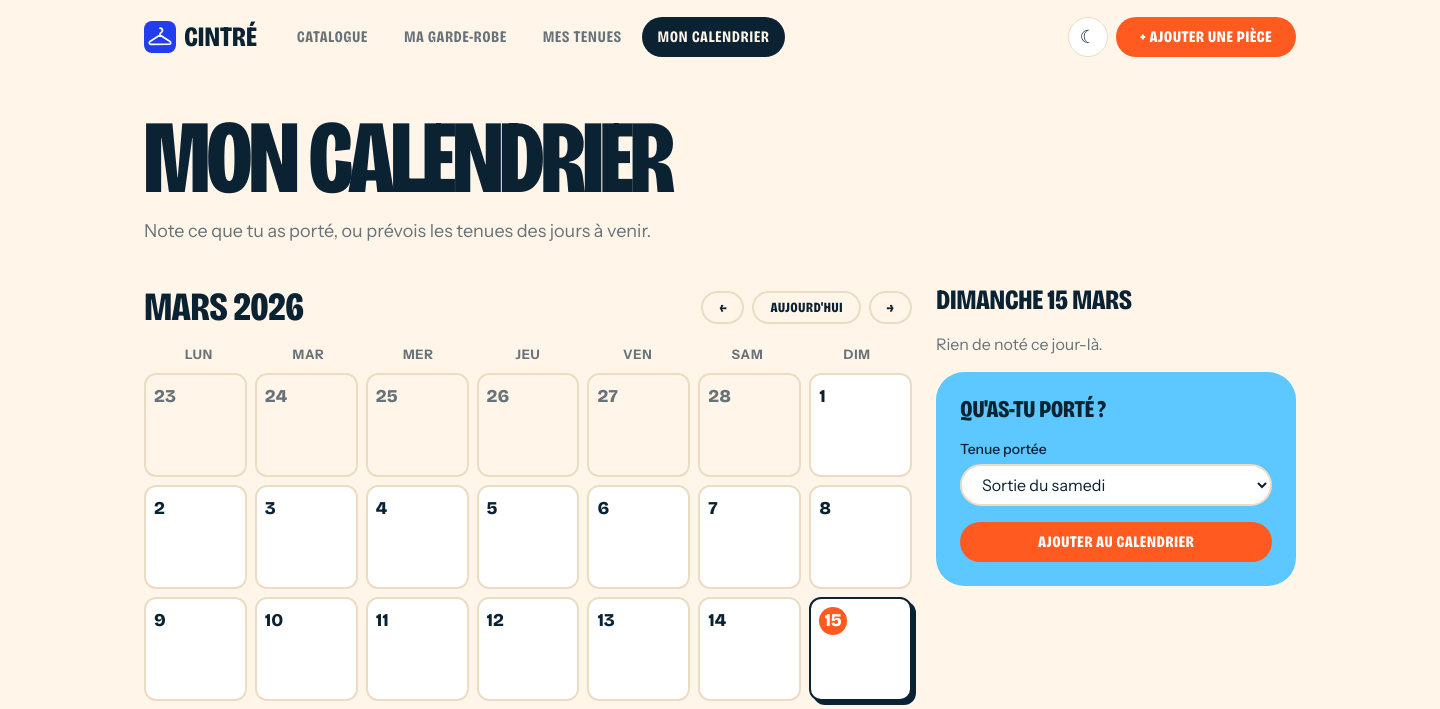
Test: Calendrier : navigation › revient au jour d'aujourd'hui
Click the button named "Mois suivant" at (890, 307), box [869, 291, 912, 324]
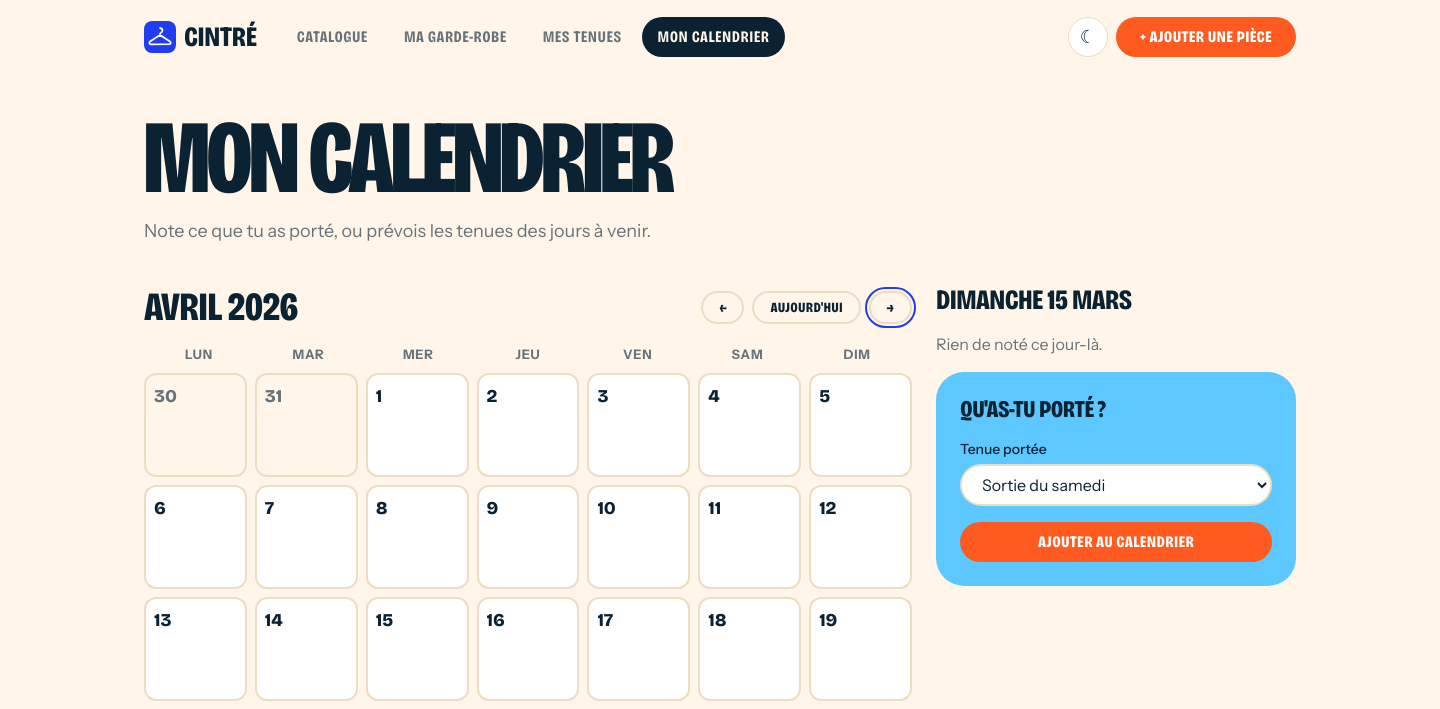
Click the button "Aujourd'hui" at (807, 307), box [752, 291, 861, 324]
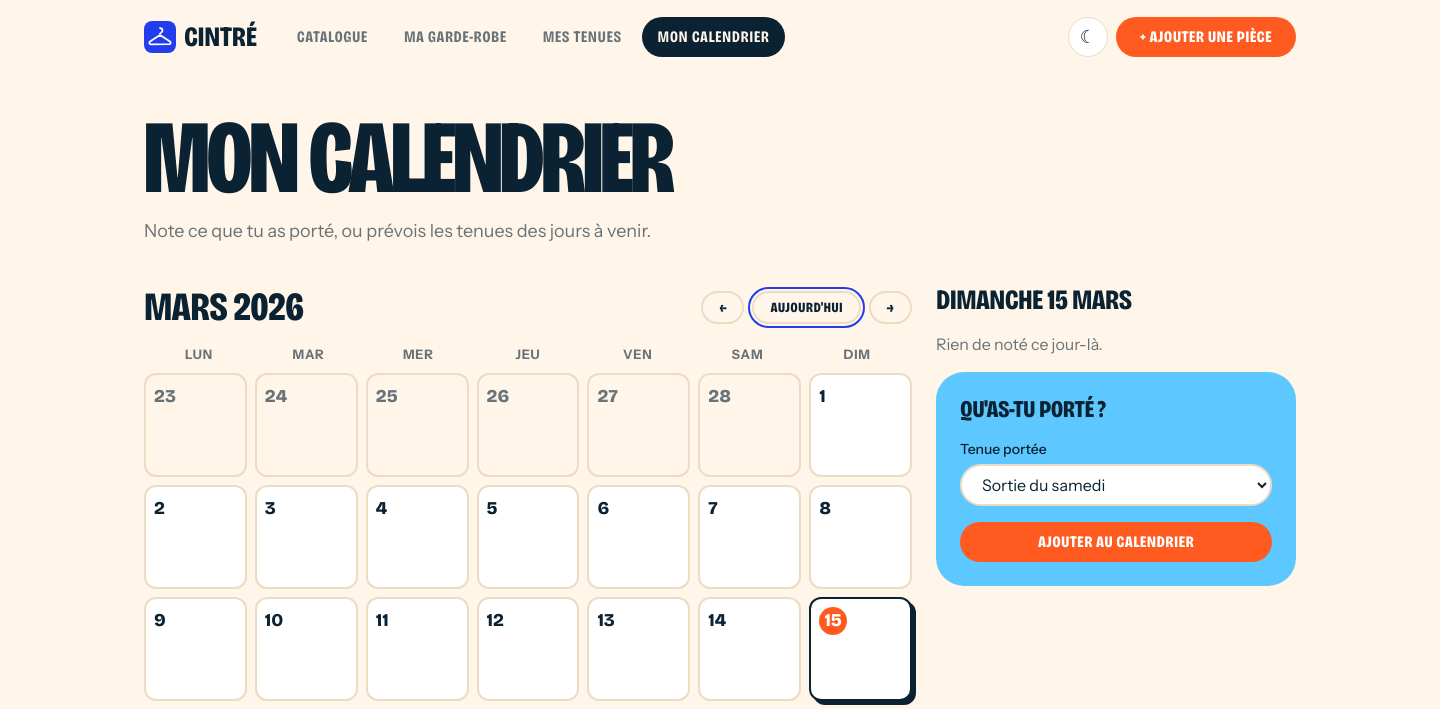
expect the heading "dimanche 15 mars" is shown: met, box [936, 283, 1131, 317]
expect the heading "mars 2026" is shown: met, box [144, 285, 303, 329]
